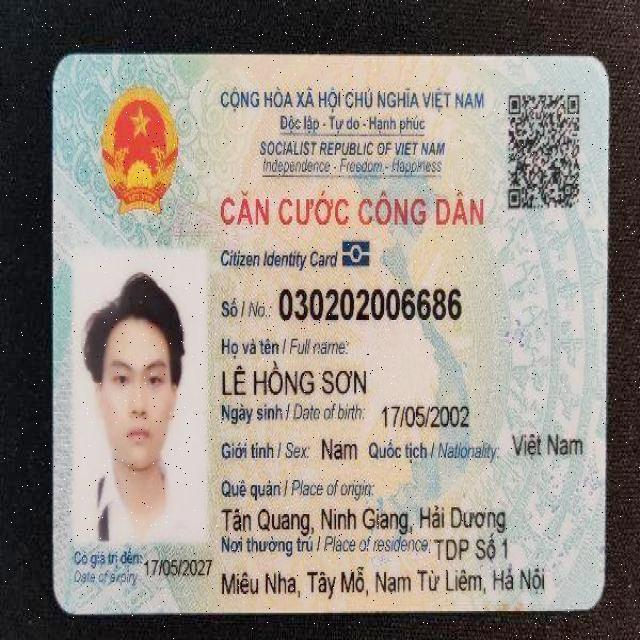current_place: (219, 563, 547, 601), (433, 532, 513, 563)
dob: (380, 402, 472, 434)
expire_date: (141, 552, 212, 578)
gender: (316, 437, 360, 465)
id: (277, 283, 468, 326)
name: (221, 357, 372, 402)
nationality: (508, 423, 589, 464)
origin_place: (221, 501, 509, 537)
